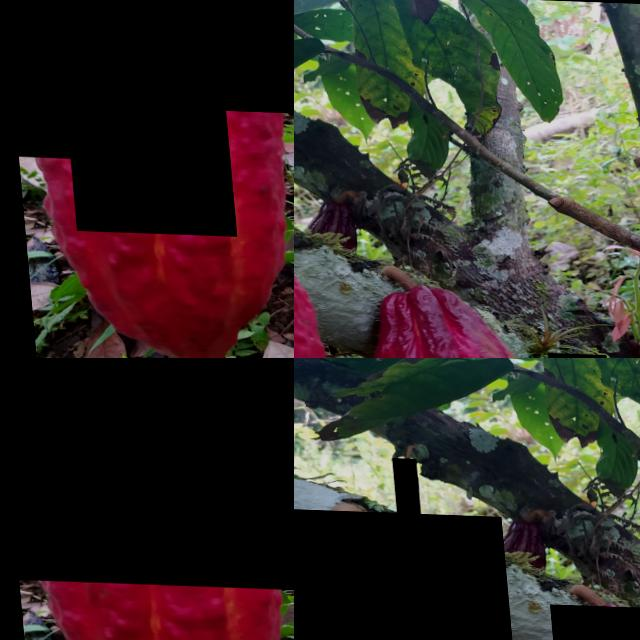Fitoftora: (51, 0, 228, 235), (0, 0, 150, 160), (401, 243, 513, 358)
Sana: (0, 358, 294, 589), (294, 507, 526, 640), (114, 0, 294, 111), (390, 457, 417, 517)
